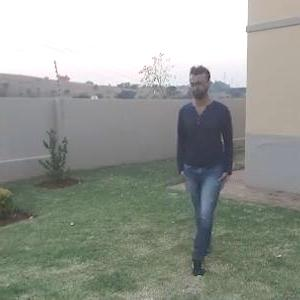follow: (159, 56, 235, 284)
